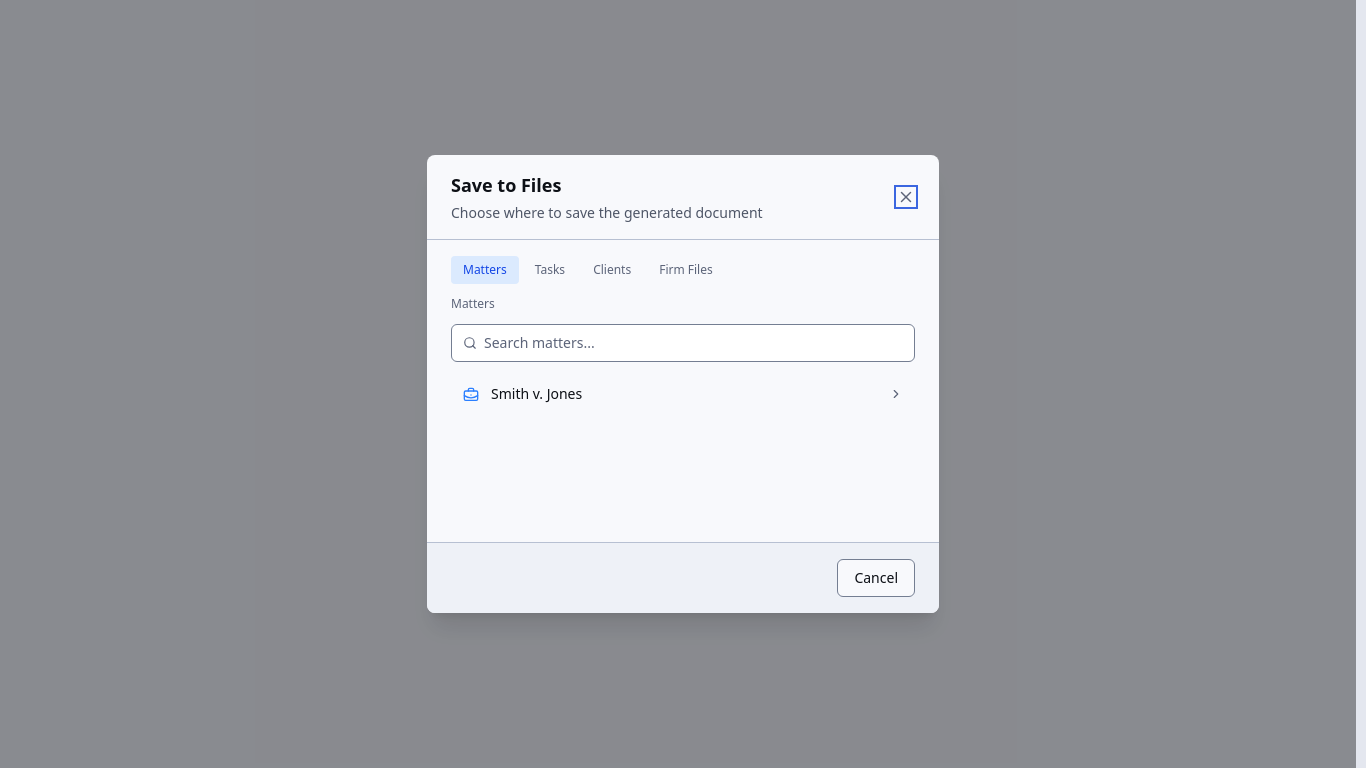
Test case: SaveToFilesModal entity lists › notes truncation on the clients list too
expect the text "Smith v. Jones" is shown: met, box left=491, top=384, right=582, bottom=403
Click the button "Clients" at (612, 270), box left=581, top=256, right=643, bottom=284
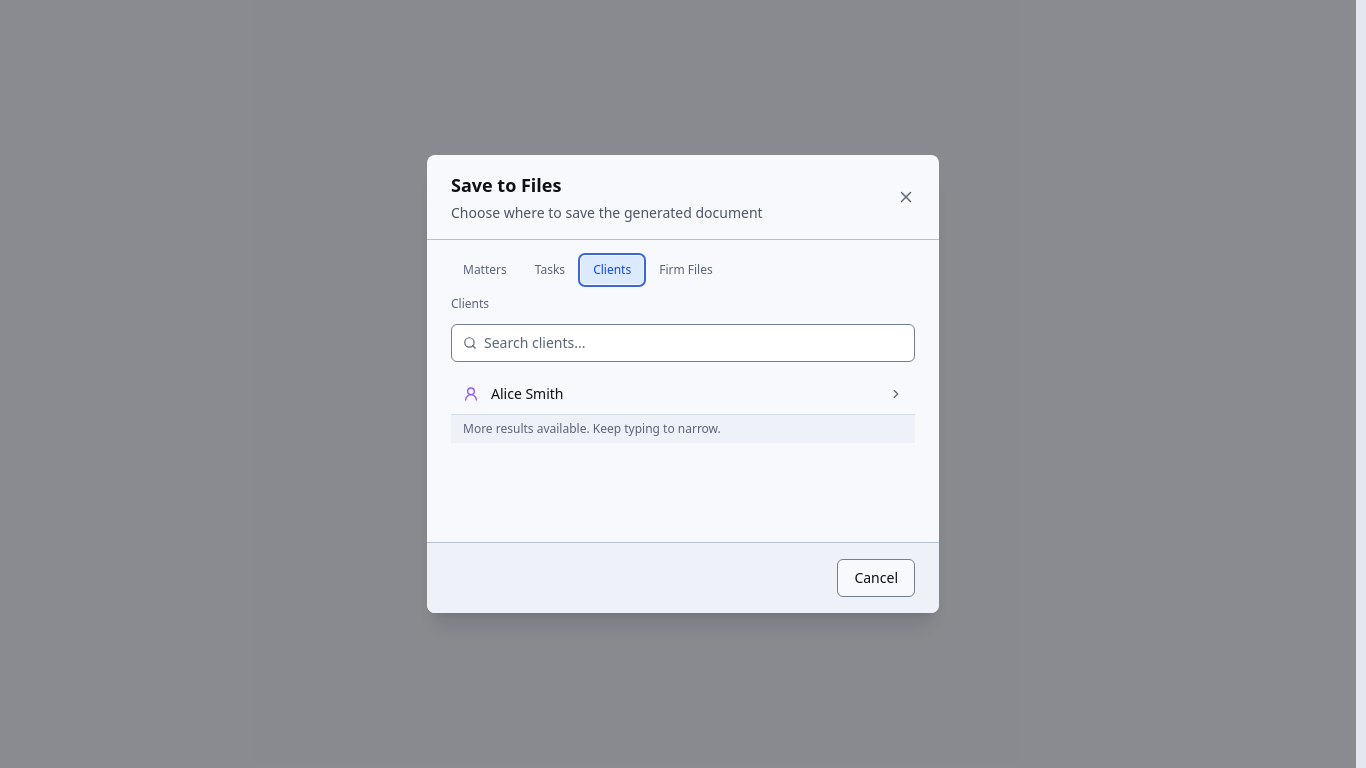
expect the text "More results available. Keep typing to narrow." is shown: met, box left=451, top=414, right=915, bottom=443
